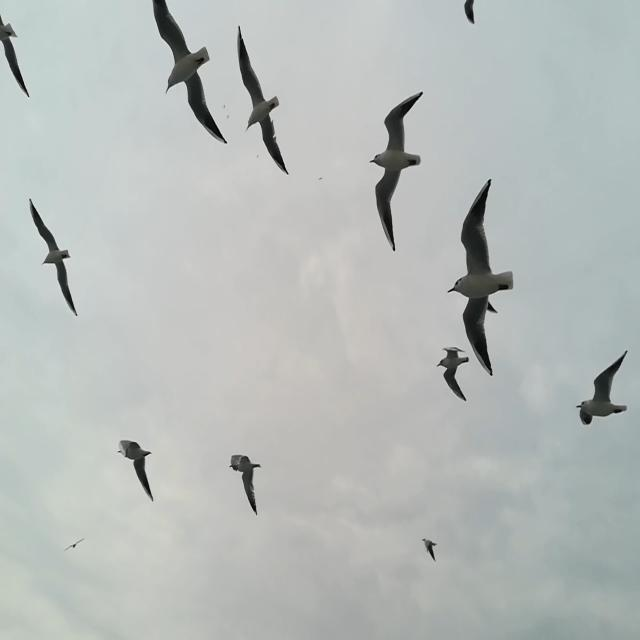bird: (447, 178, 514, 378), (152, 0, 228, 145), (367, 92, 423, 251), (237, 24, 289, 176), (29, 200, 78, 316), (576, 349, 628, 427), (0, 14, 32, 100), (117, 438, 154, 503), (228, 453, 262, 516), (436, 346, 470, 402), (421, 537, 438, 562), (61, 538, 85, 554), (463, 0, 476, 24), (482, 298, 498, 316)
